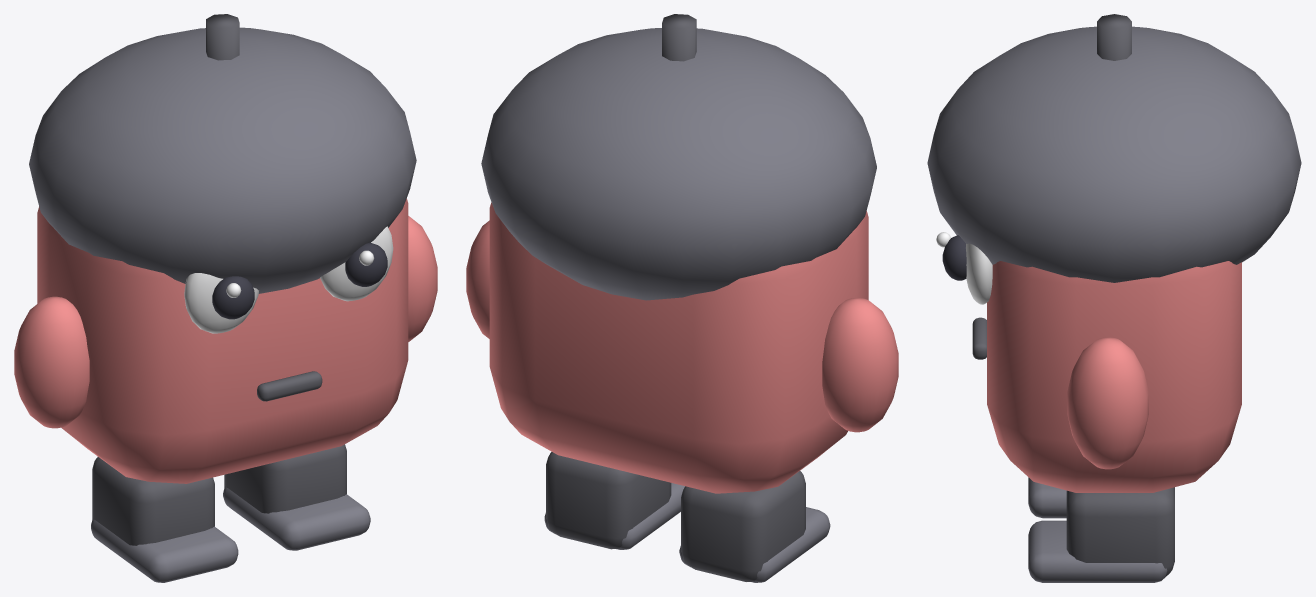
The model's file is pleb_brute.glb.
The picture shows the model from 3 angles, left to right: view 1: azimuth 30°, elevation 25°; view 2: azimuth 150°, elevation 25°; view 3: azimuth 270°, elevation 25°; orthographic projection. The views are drawn at different scales.
Parts seen in each view (by area): view 1: pleb_brute; view 2: pleb_brute; view 3: pleb_brute.
Part boxes in pixels (box(x1,y1,x2,y2)): pleb_brute: box(14, 14, 437, 582); pleb_brute: box(466, 14, 898, 582); pleb_brute: box(927, 14, 1301, 582).
Bounding box in the file's own units: 1.49 × 1.77 × 1.17.
